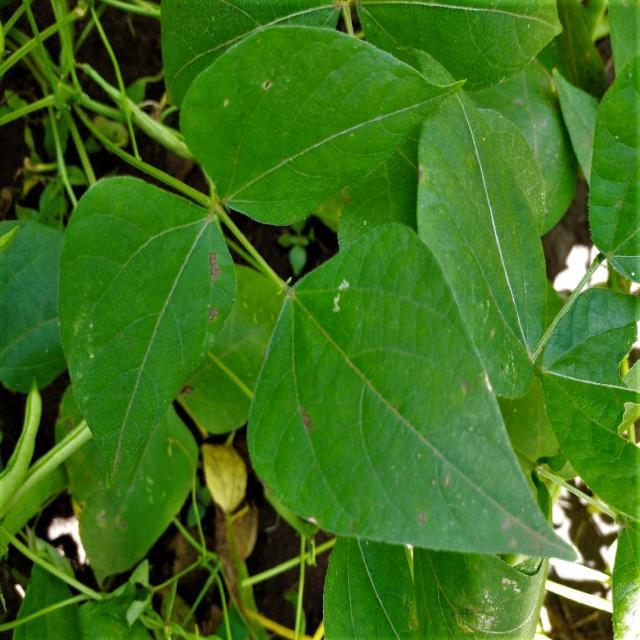embun tepung: (162, 193, 523, 545)
